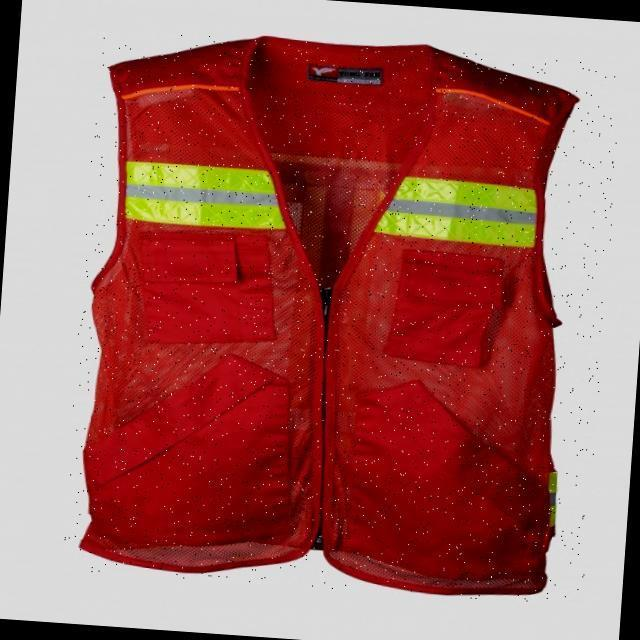vest: (61, 27, 623, 607)
